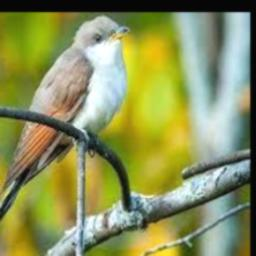Cuckoo: (0, 14, 129, 256)
